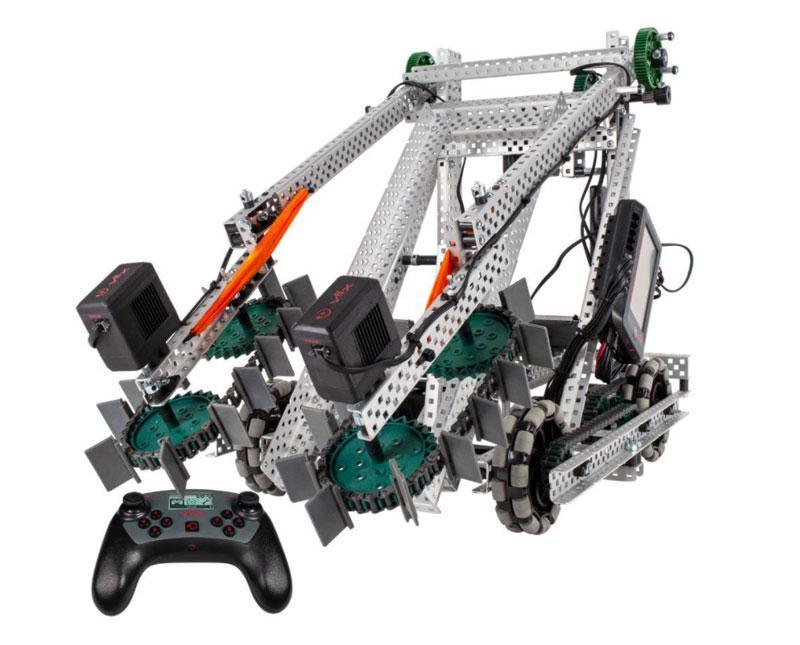robot: (72, 20, 699, 549)
